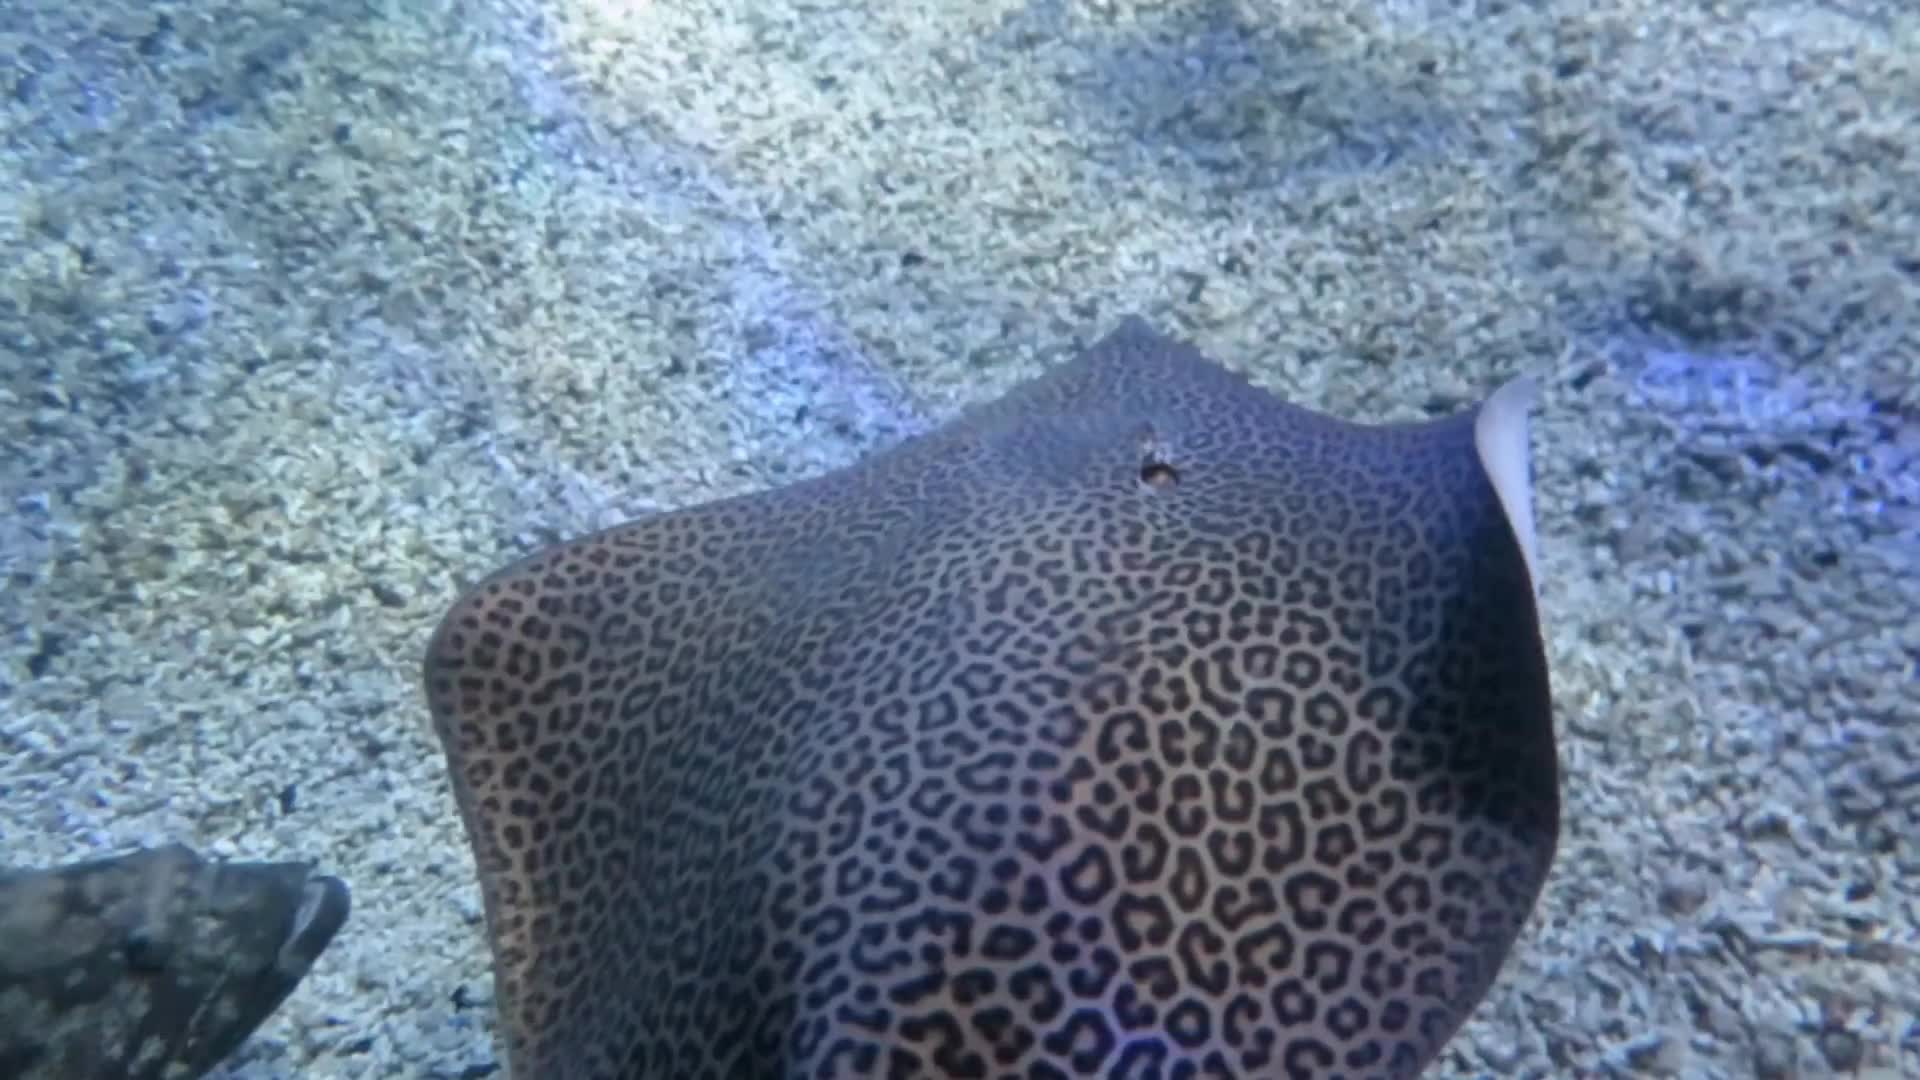Himantura uarnak: (384, 241, 1630, 1080)
